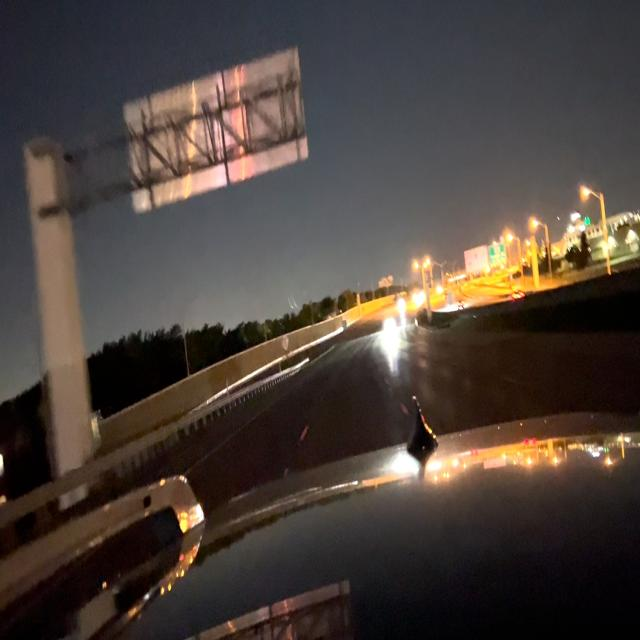back-of-sign: (119, 46, 307, 224)
